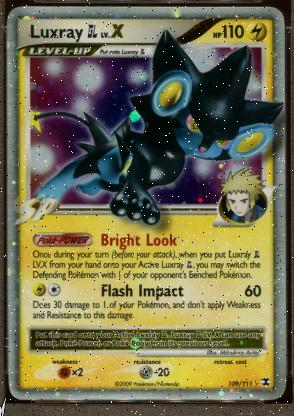Card: (7, 4, 287, 402)
